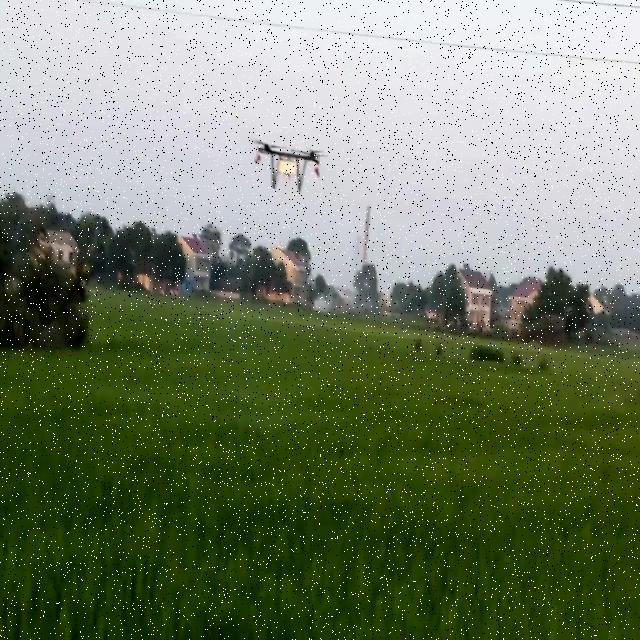UAV: (250, 138, 328, 194)
